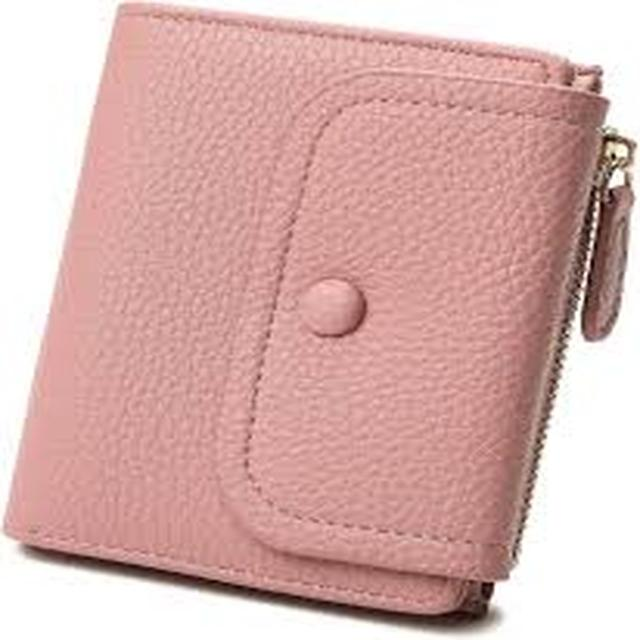wallet: (10, 6, 609, 628)
